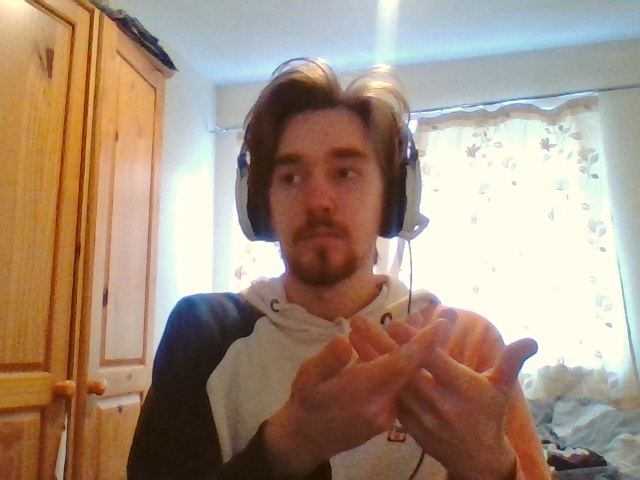how: (280, 310, 537, 460)
